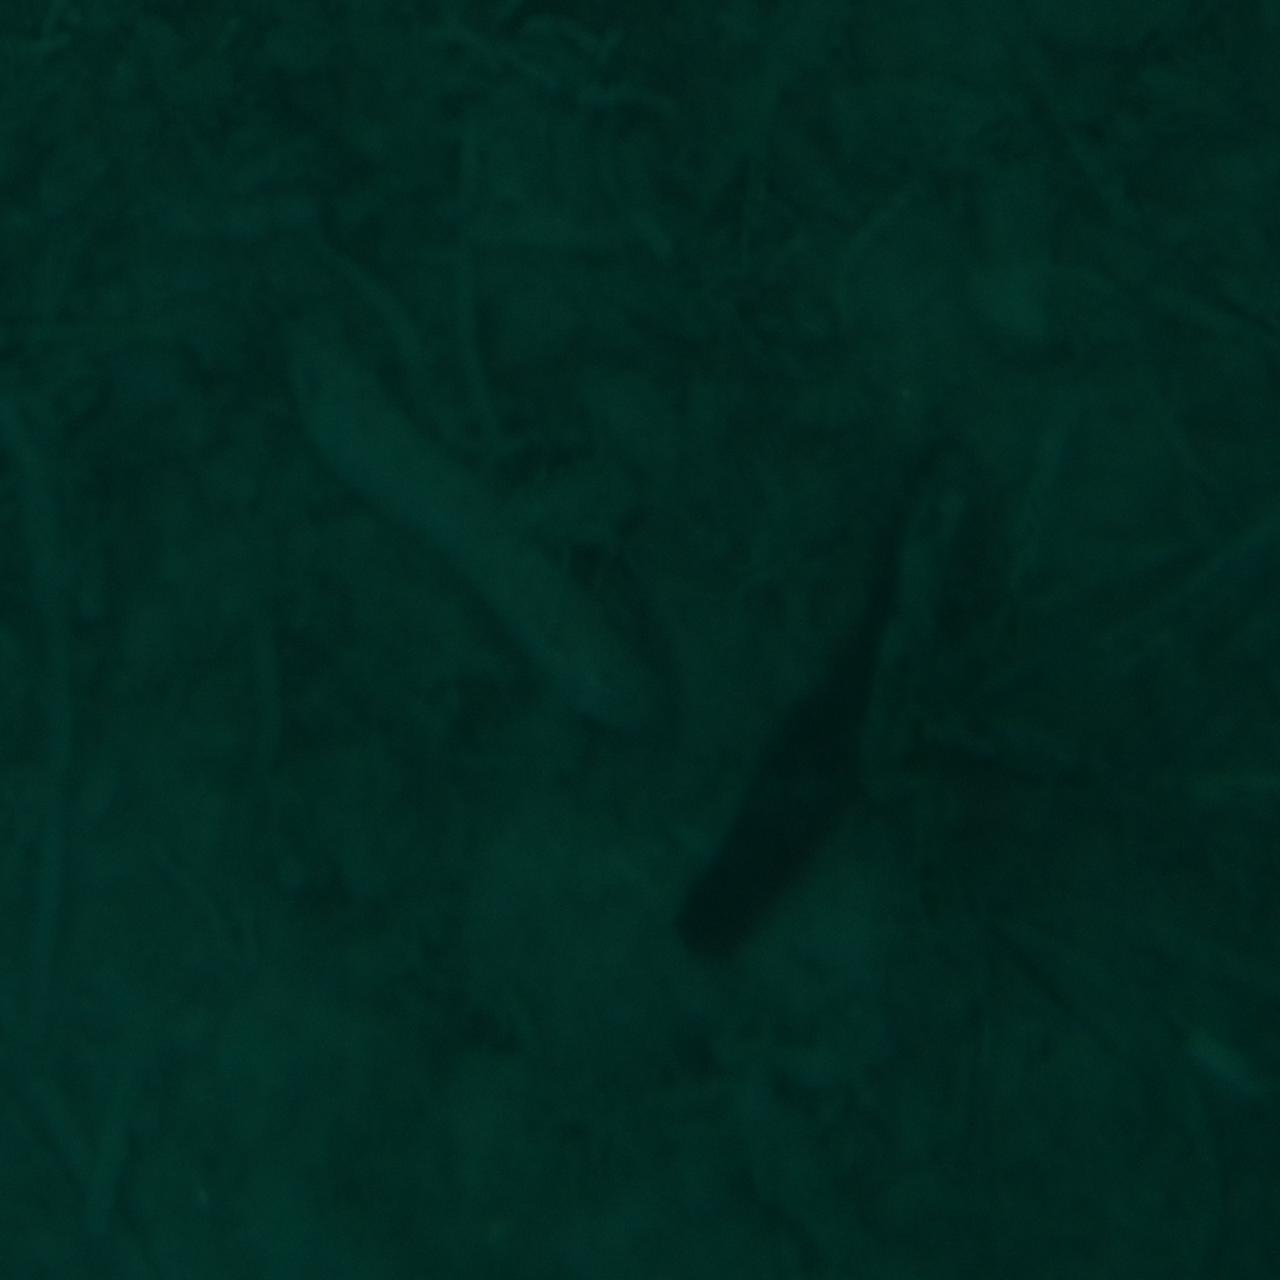Holothuria tubulosa: (267, 284, 696, 755), (675, 563, 920, 959)
